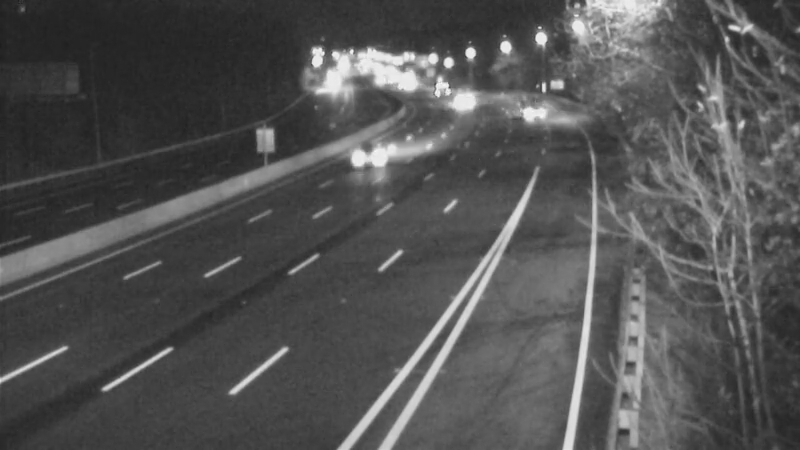vehicle: (333, 124, 413, 204), (417, 63, 467, 113), (494, 79, 544, 129), (438, 76, 488, 126)
